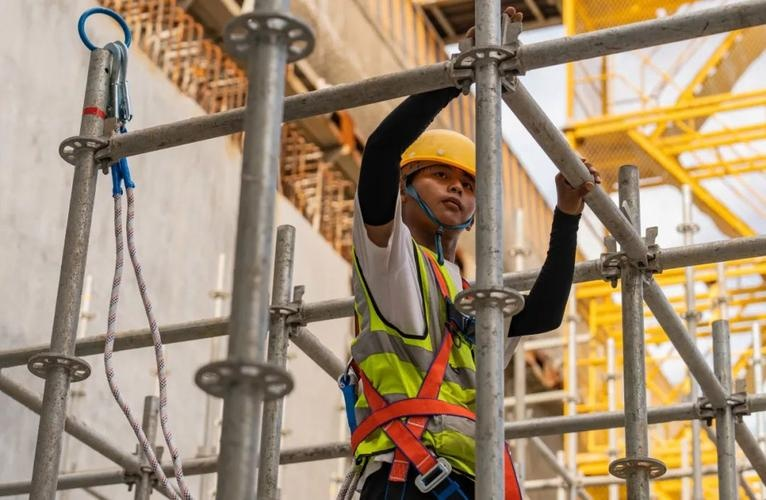safety belt: (346, 242, 514, 495)
